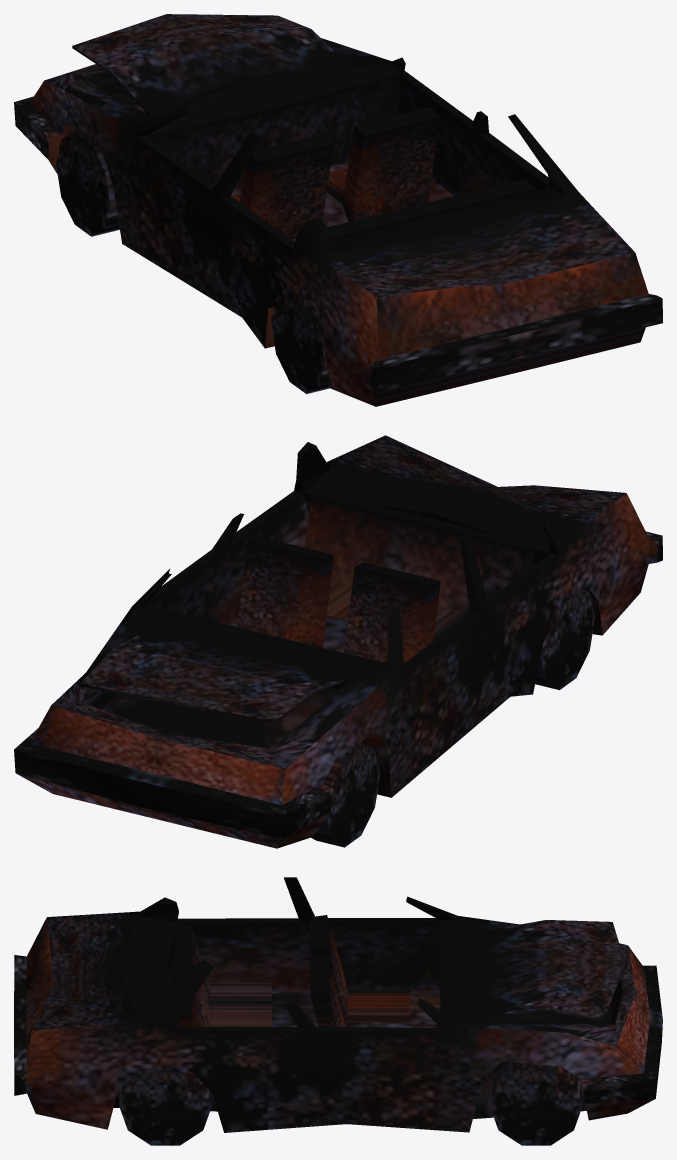
File: CivCarWrecked_V1.glb
3 renders of one model, top to bottom at view 1: azimuth 30°, elevation 25°; view 2: azimuth 150°, elevation 25°; view 3: azimuth 270°, elevation 25°, orthographic. The views are drawn at different scales.
Visible parts, largest first — view 1: CIVCARWRECKED_V1; view 2: CIVCARWRECKED_V1; view 3: CIVCARWRECKED_V1.
Part boxes in pixels (bbox=[...]): CIVCARWRECKED_V1: bbox=[14, 14, 662, 406]; CIVCARWRECKED_V1: bbox=[14, 435, 662, 848]; CIVCARWRECKED_V1: bbox=[14, 877, 662, 1145].
Bounding box in the file's own units: 2.04 × 1.36 × 4.63.
2 materials, 2 textured.
